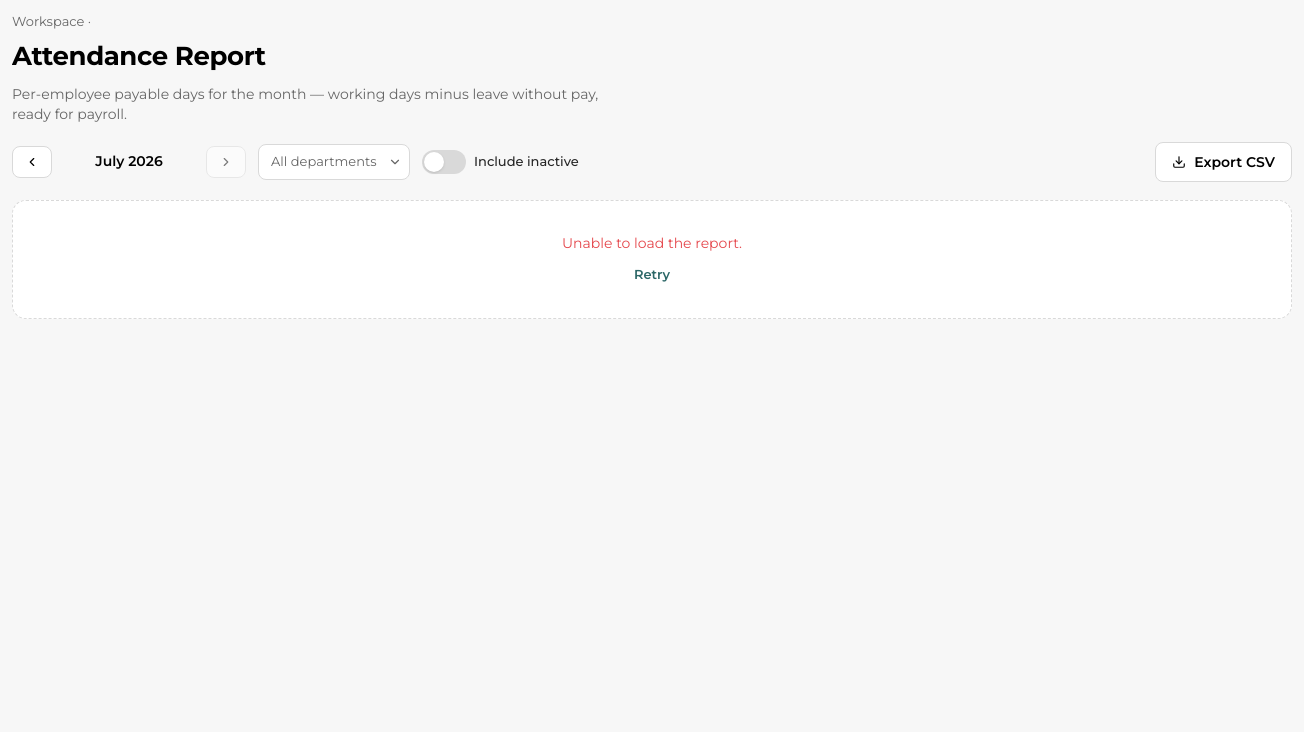
Scenario: shows an error state with a working Retry on a load failure
Expected: the text "Unable to load the report." is shown, [562, 234, 742, 252]
What coordinates should you click on to do the following:
click the button "Retry"
I would click on:
 (652, 274)
Its box is [634, 264, 670, 284].
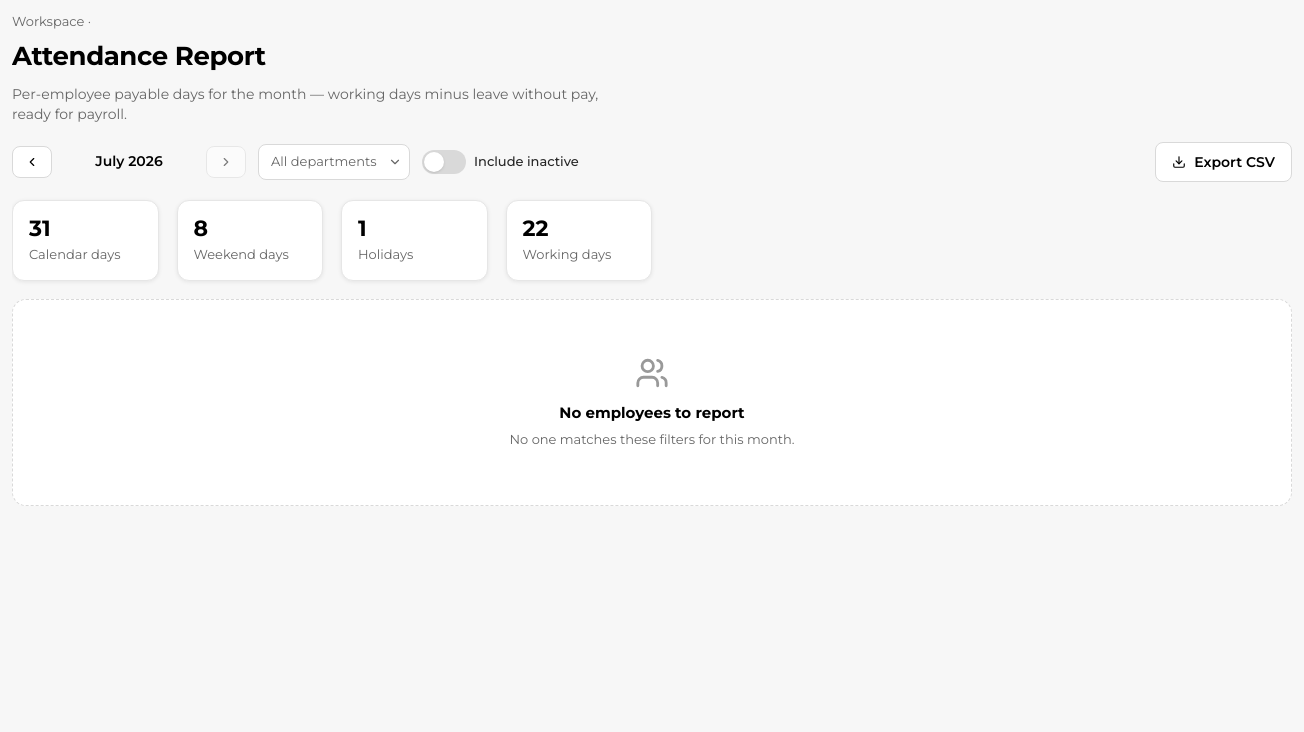
Now the text "No employees to report" is shown, box [559, 403, 745, 422]
